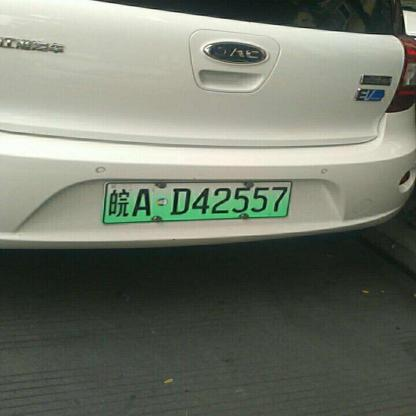lp: (105, 181, 290, 222)
